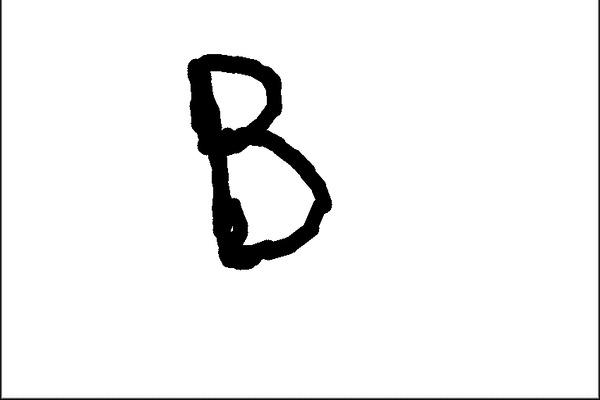B: (168, 41, 344, 277)
